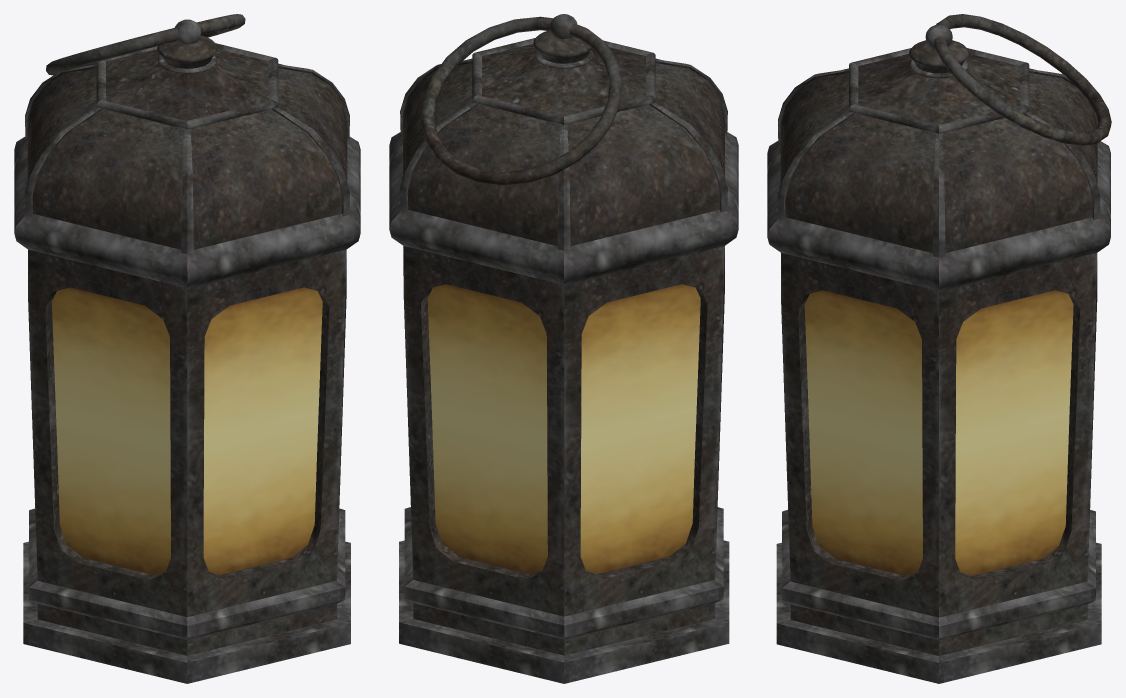
Rendered from Lantern03.fbx.
The picture shows the model from 3 angles, left to right: view 1: azimuth 30°, elevation 25°; view 2: azimuth 150°, elevation 25°; view 3: azimuth 270°, elevation 25°; orthographic projection.
Visible parts, largest first — view 1: Lantern03; view 2: Lantern03; view 3: Lantern03.
Part boxes in pixels (x1,y1,x2,y2): Lantern03: (14, 14, 360, 683); Lantern03: (389, 14, 738, 683); Lantern03: (767, 14, 1111, 683).
Bounding box in the file's own units: 26.05 × 41.91 × 22.6.
